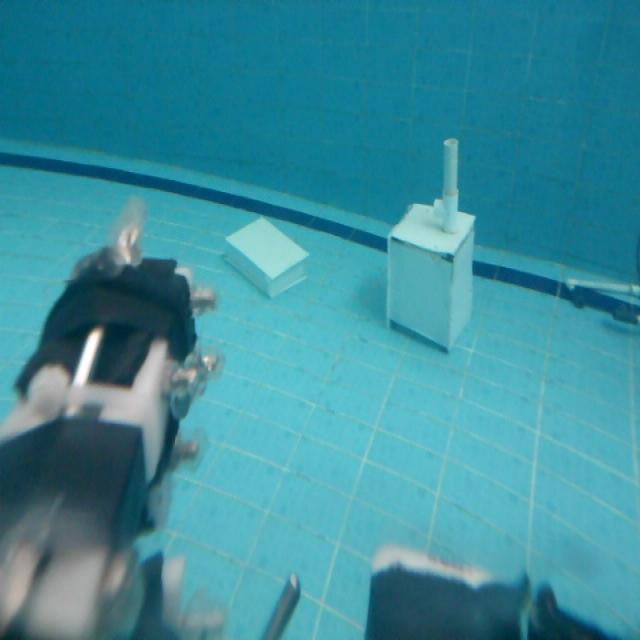Cube: (378, 199, 481, 354)
Cuboid: (222, 212, 310, 299)
